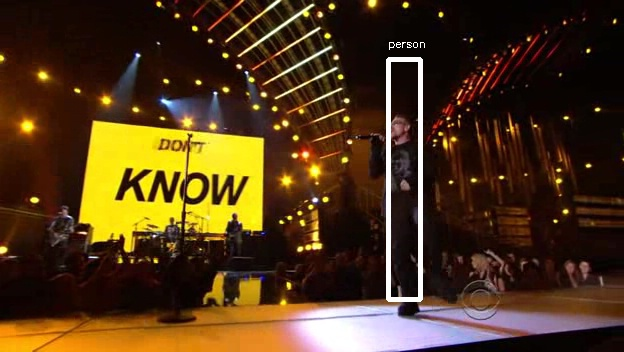person: (369, 114, 436, 225), (366, 114, 433, 225), (372, 114, 439, 225), (369, 111, 436, 222), (369, 117, 436, 228)
target_negative: (243, 125, 610, 335), (557, 81, 623, 302), (336, 328, 508, 351), (212, 243, 326, 251), (256, 103, 447, 104), (573, 246, 575, 317)
